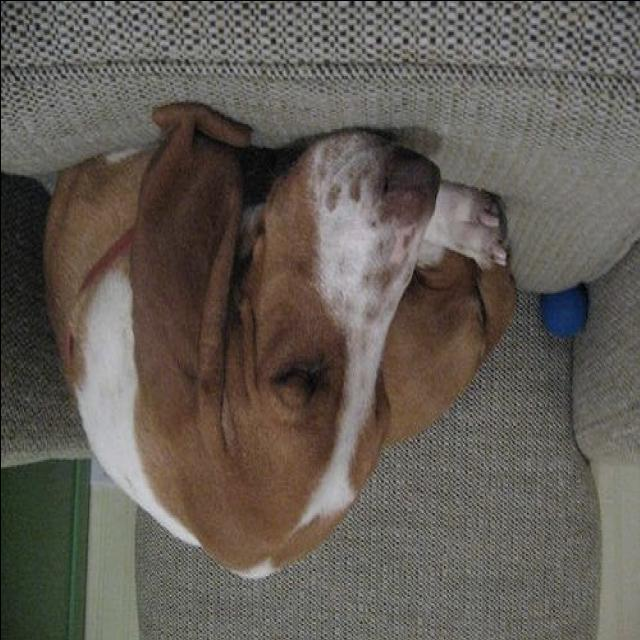basset: (39, 102, 520, 580)
